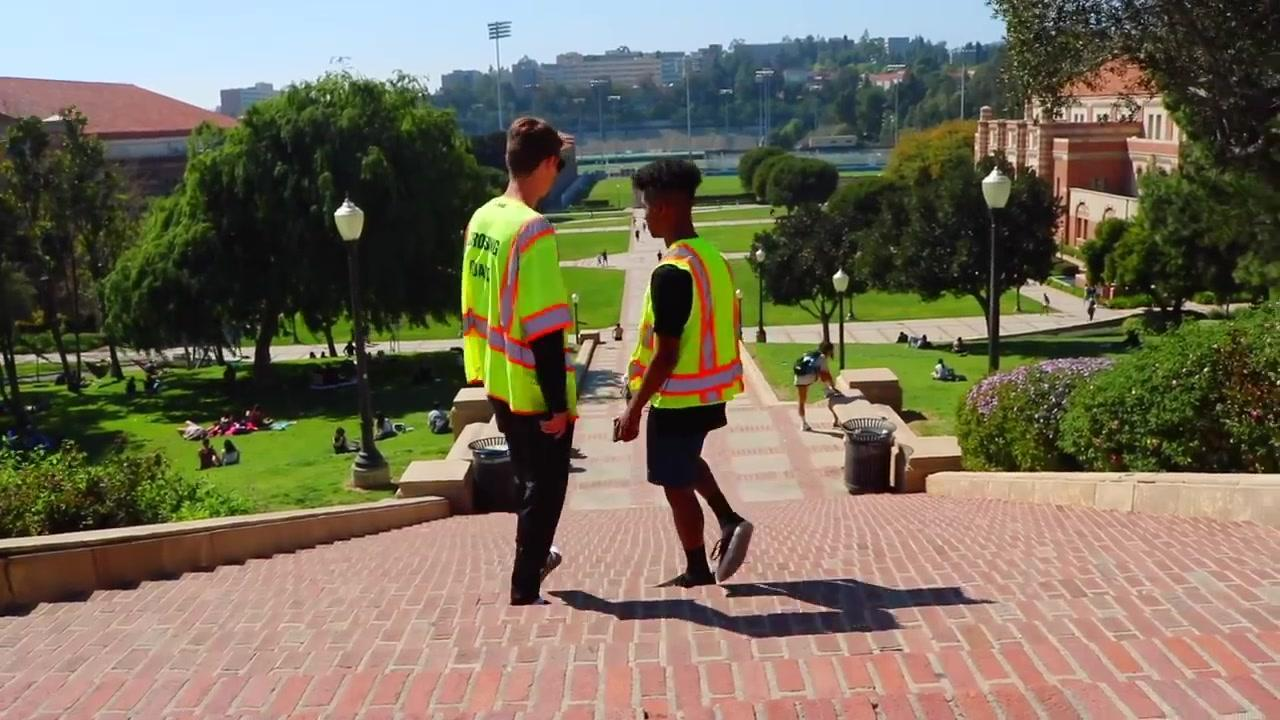vest: (454, 191, 581, 414), (628, 233, 747, 407)
